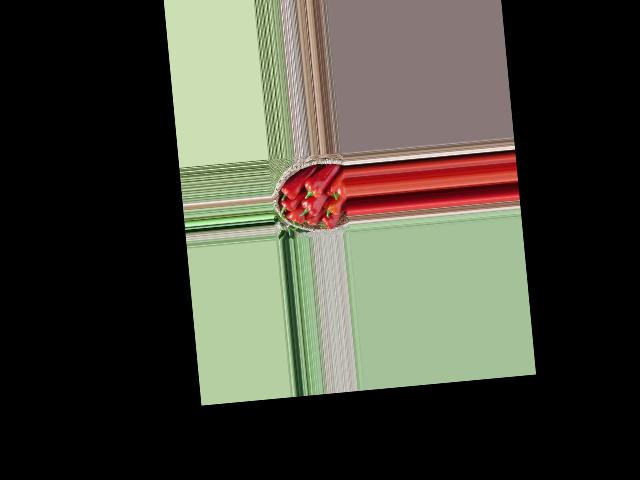bell_pepper: (277, 196, 299, 215)
